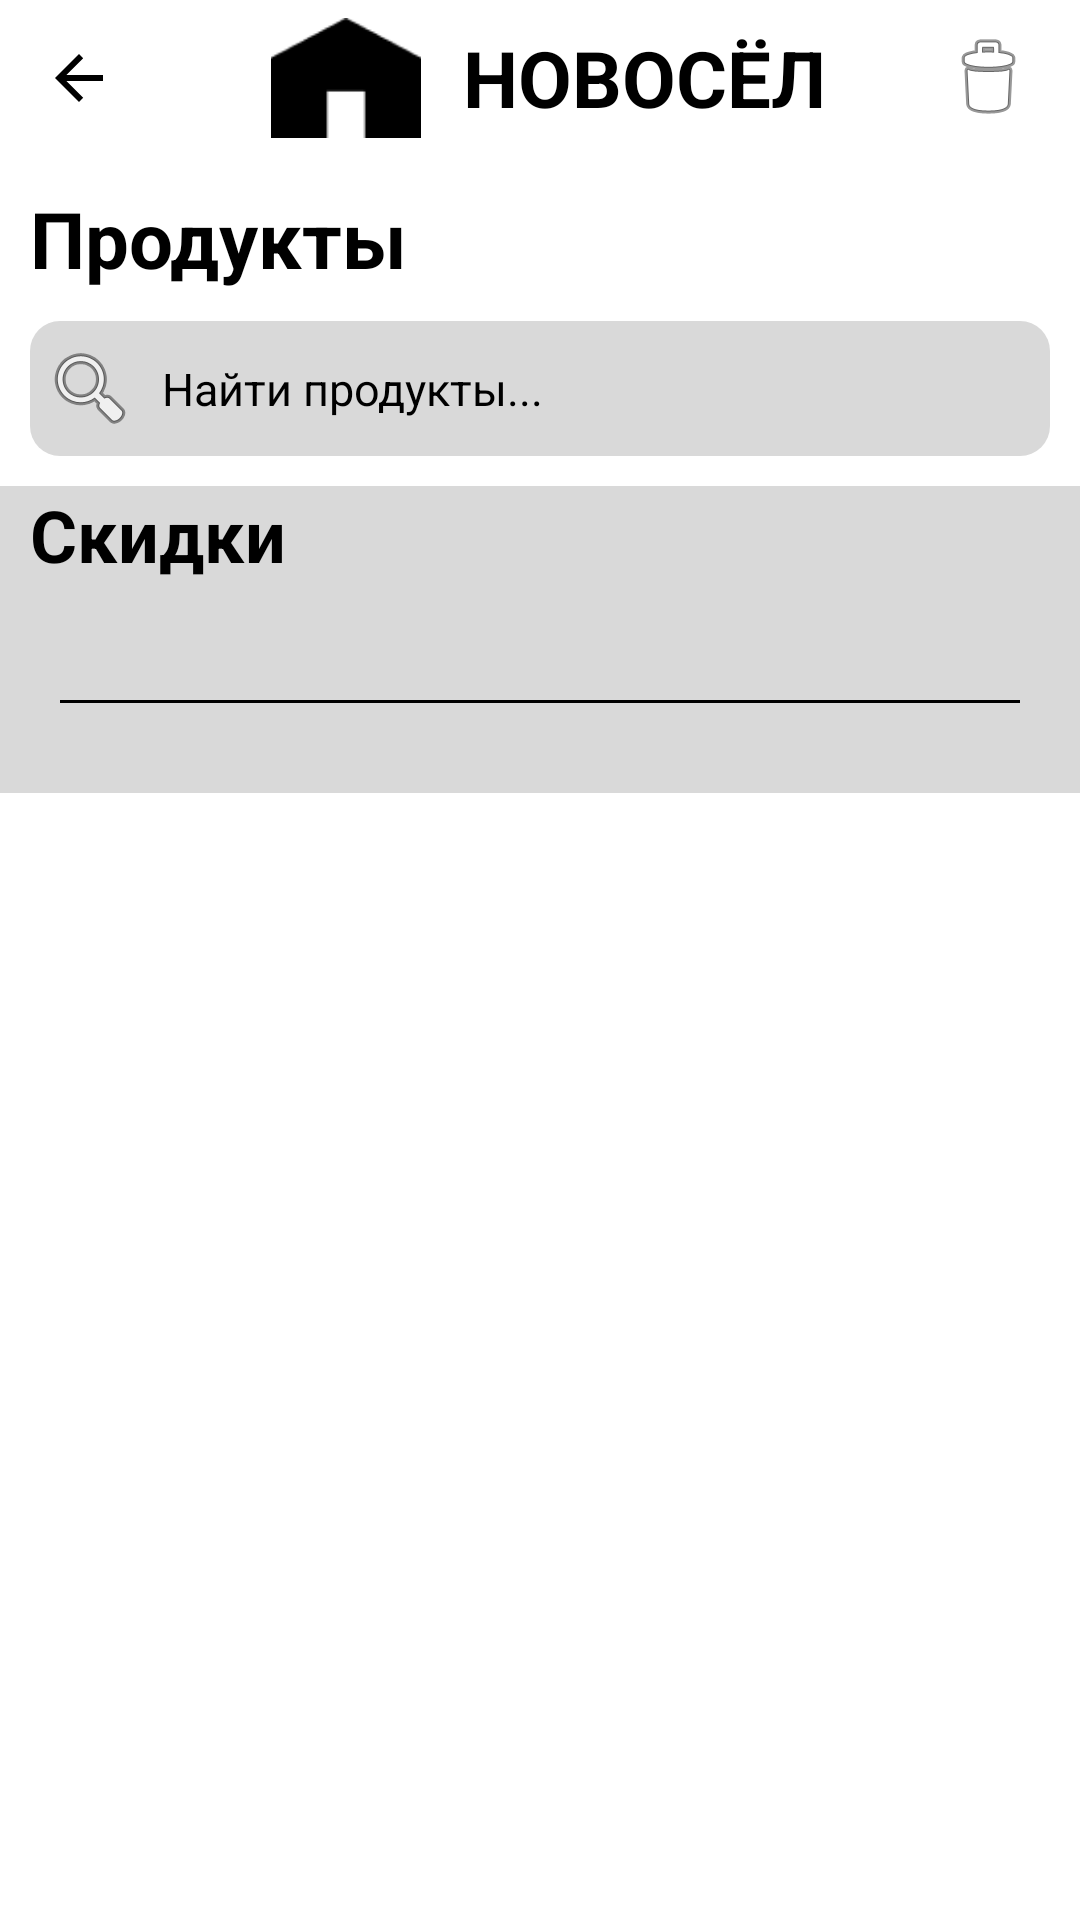

Icon click points for this 1080*1920 phone screenshot, format point (x, y):
delete: point (988, 76)
